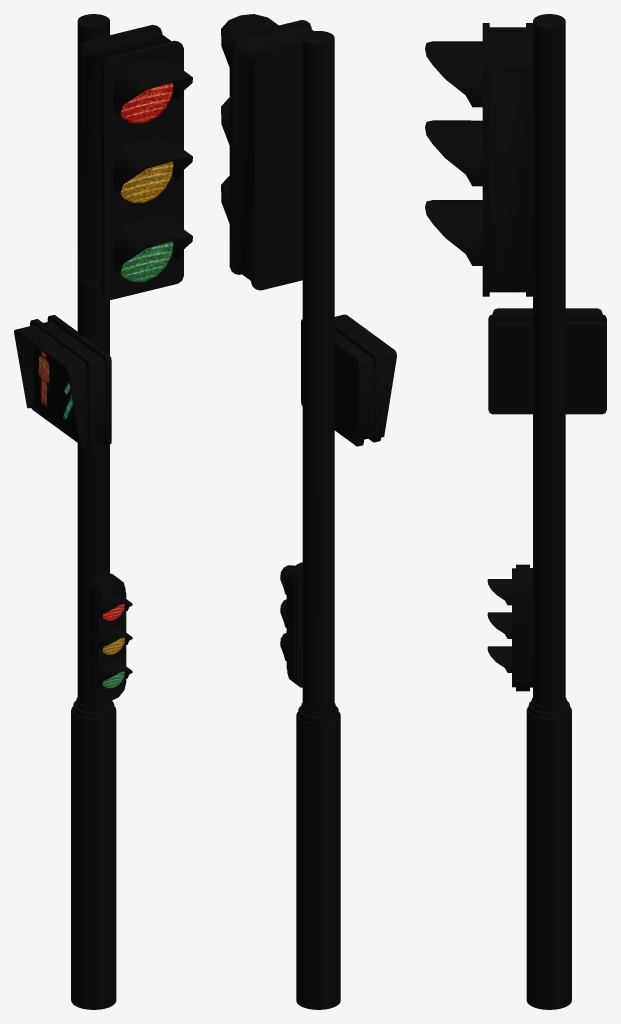
Rendered from feu-de-signalisation-simple.obj.
The picture shows the model from 3 angles, left to right: view 1: azimuth 30°, elevation 25°; view 2: azimuth 210°, elevation 25°; view 3: azimuth 270°, elevation 25°; orthographic projection.
Parts seen in each view (by area): view 1: Top3LightsBox_Cube.003, Pole_Cylinder.001, 2LightsPedestrian_Cube.005, 3LightsBoxLittle_Cube.001; view 2: Pole_Cylinder.001, Top3LightsBox_Cube.003, 2LightsPedestrian_Cube.005, 3LightsBoxLittle_Cube.001; view 3: Pole_Cylinder.001, Top3LightsBox_Cube.003, 2LightsPedestrian_Cube.005, 3LightsBoxLittle_Cube.001.
Part boxes in pixels (box(x1,y1,x2,y2)): Top3LightsBox_Cube.003: box(79, 24, 192, 299); Pole_Cylinder.001: box(71, 14, 116, 1009); 2LightsPedestrian_Cube.005: box(14, 315, 111, 449); 3LightsBoxLittle_Cube.001: box(88, 573, 132, 701); Pole_Cylinder.001: box(296, 31, 340, 1009); Top3LightsBox_Cube.003: box(221, 14, 313, 290); 2LightsPedestrian_Cube.005: box(301, 314, 396, 446); 3LightsBoxLittle_Cube.001: box(280, 562, 302, 687); Pole_Cylinder.001: box(526, 14, 571, 1009); Top3LightsBox_Cube.003: box(425, 23, 532, 296); 2LightsPedestrian_Cube.005: box(488, 308, 606, 414); 3LightsBoxLittle_Cube.001: box(487, 564, 532, 691).
Bounding box in the file's own units: 37.5 × 317 × 53.26.
Materials: 15 (11 with a texture image).
